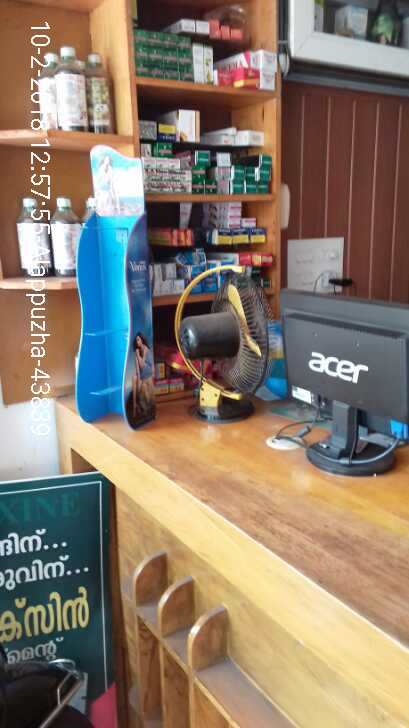reject: (144, 243, 248, 344)
